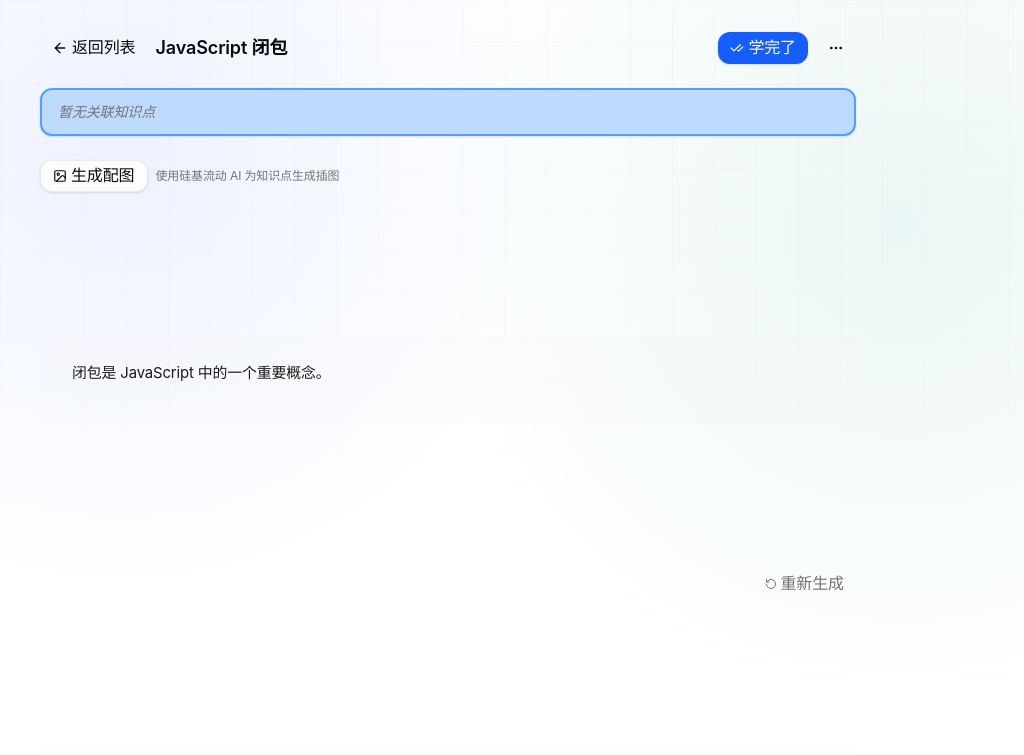
Test: TopicDetail › action menu › shows analysis tools in action menu
Click the button titled "更多操作". click: x=836, y=48
box: [816,32,856,64]
(page scrolled)
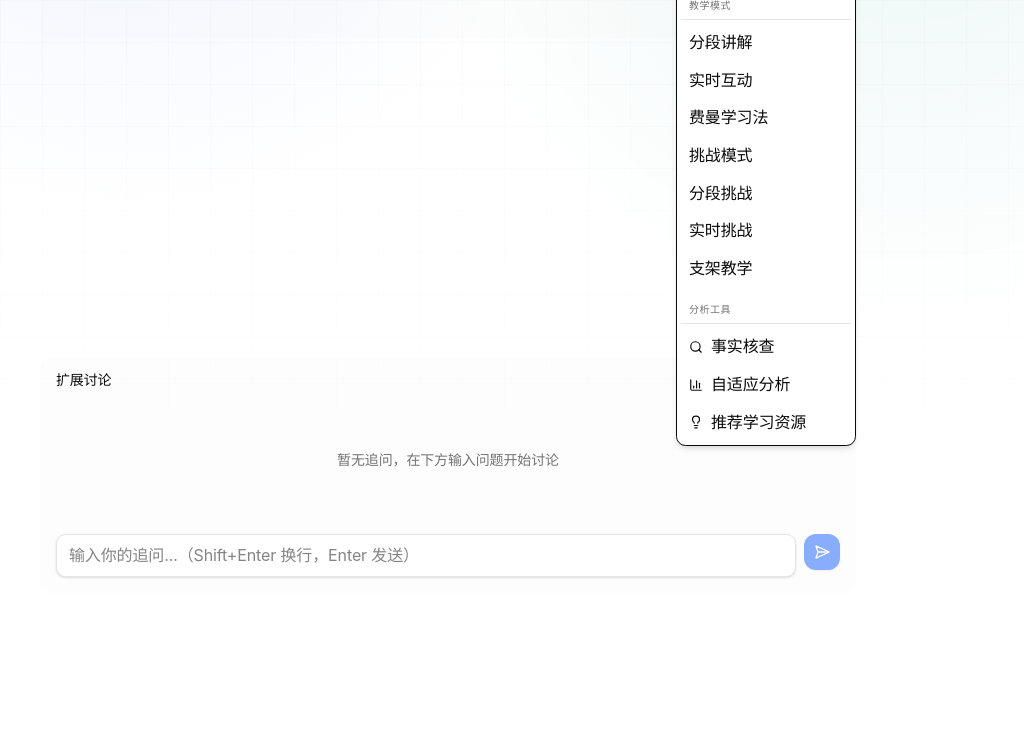
Check: the button "事实核查" is shown, box [681,328,851,366]
Check: the button "自适应分析" is shown, box [681,366,851,404]
